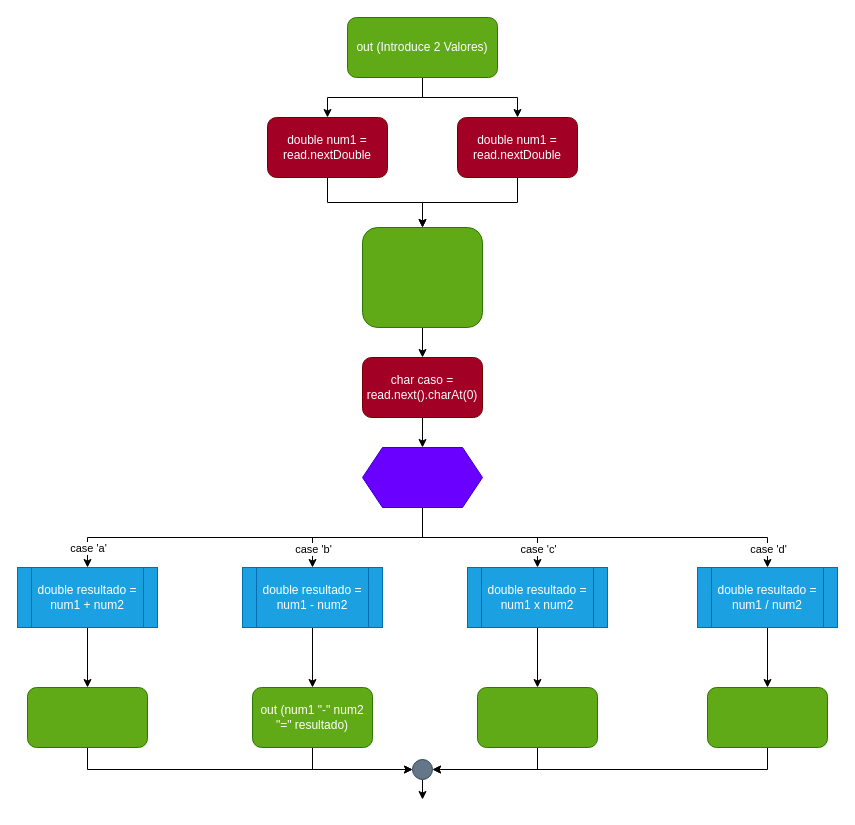
The diagram is 855 pixels wide and 825 high, and some of its shapes have lost their labels. The shapes that lost their labels are listed below. From the top down, each one's centre as x and y in pixels, then its label:
point (422, 277): out (Selecciona el Modo: a = suma b = resta c = multiplicación d = división)
point (422, 477): switch caso
point (87, 717): out (num1 "+" num2 "=" resultado)
point (537, 717): out (num1 "x" num2 "=" resultado)
point (767, 717): out (num1 "/" num2 "=" resultado)
